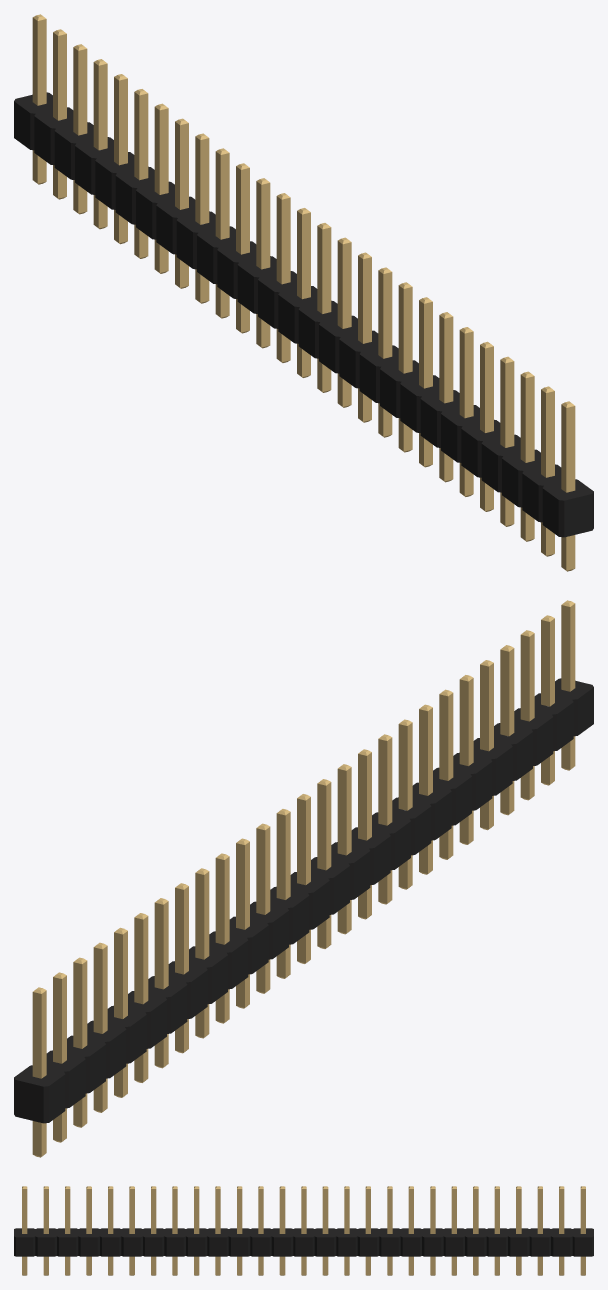
Rendered from kc-pinheader_1x27_p2.54mm_vertical.glb.
The picture shows the model from 3 angles, top to bottom: view 1: azimuth 30°, elevation 25°; view 2: azimuth 150°, elevation 25°; view 3: azimuth 270°, elevation 25°; orthographic projection. The views are drawn at different scales.
Visible parts, largest first — view 1: 0.75_0.5_0.25_0.9, 0_0_0_0; view 2: 0.75_0.5_0.25_0.9, 0_0_0_0; view 3: 0_0_0_0, 0.75_0.5_0.25_0.9.
Boxes of the visible parts, <box> form: 0.75_0.5_0.25_0.9: <box>32,14,575,571</box>; 0_0_0_0: <box>14,92,593,537</box>; 0.75_0.5_0.25_0.9: <box>32,600,575,1157</box>; 0_0_0_0: <box>14,678,593,1123</box>; 0_0_0_0: <box>14,1228,593,1256</box>; 0.75_0.5_0.25_0.9: <box>22,1186,585,1275</box>.
Bounding box in the file's own units: 0.2537 × 1.15 × 6.86.
